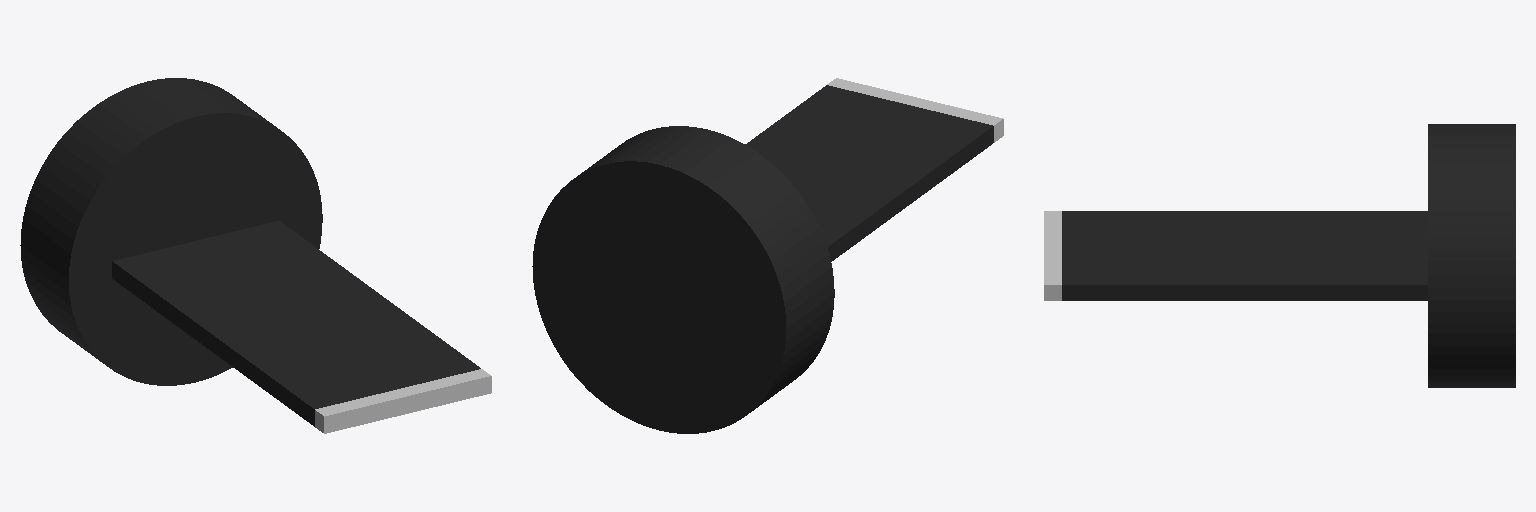
robot.urdf — ur5:
<?xml version="1.0" ?>
<!-- ============================================================================================= -->
<!-- |    This document was autogenerated by xacro from ur_description/urdf/ur5_robot.urdf.xacro | -->
<!-- |    EDITING THIS FILE BY HAND IS NOT RECOMMENDED                                           | -->
<!-- ============================================================================================= -->
<robot name="ur5" xmlns:xacro="http://ros.org/wiki/xacro">
  <material name="LightGrey">
    <color rgba="0.8 0.8 0.8 1.0"/>
  </material>

  <material name="DarkGrey">
    <color rgba="0.2 0.2 0.2 1.0"/>
  </material>

  <link name="base_link">
    <visual>
      <geometry>
        <mesh filename="visual/base.stl"/>
      </geometry>
      <material name="LightGrey"/>
    </visual>
    <!-- <collision>
      <geometry>
      	<mesh filename="collision/base.stl"/>
      </geometry>
    </collision> -->
    <inertial>
      <mass value="4.0"/>
      <origin rpy="0 0 0" xyz="0.0 0.0 0.0"/>
      <inertia ixx="0.00443333156" ixy="0.0" ixz="0.0" iyy="0.00443333156" iyz="0.0" izz="0.0072"/>
    </inertial>
  </link>
  <joint name="shoulder_pan_joint" type="revolute">
    <parent link="base_link"/>
    <child link="shoulder_link"/>
    <origin rpy="0.0 0.0 0.0" xyz="0.0 0.0 0.089159"/>
    <axis xyz="0 0 1"/>
    <limit effort="150.0" lower="-6.28318530718" upper="6.28318530718" velocity="3.15"/>
    <dynamics damping="0.0" friction="0.0"/>
  </joint>
  <link name="shoulder_link">
    <visual>
      <geometry>
        <mesh filename="visual/shoulder.stl"/>
      </geometry>
      <material name="DarkGrey"/>
    </visual>
    <!-- <collision>
      <geometry>
        <mesh filename="collision/shoulder.stl"/>
      </geometry>
    </collision> -->
    <inertial>
      <mass value="3.7"/>
      <origin rpy="0 0 0" xyz="0.0 0.0 0.0"/>
      <inertia ixx="0.010267495893" ixy="0.0" ixz="0.0" iyy="0.010267495893" iyz="0.0" izz="0.00666"/>
    </inertial>
  </link>
  <joint name="shoulder_lift_joint" type="revolute">
    <parent link="shoulder_link"/>
    <child link="upper_arm_link"/>
    <origin rpy="0.0 1.57079632679 0.0" xyz="0.0 0.13585 0.0"/>
    <axis xyz="0 1 0"/>
    <limit effort="150.0" lower="-6.28318530718" upper="6.28318530718" velocity="3.15"/>
    <dynamics damping="0.0" friction="0.0"/>
  </joint>
  <link name="upper_arm_link">
    <visual>
      <geometry>
        <mesh filename="visual/upperarm.stl"/>
      </geometry>
      <material name="LightGrey"/>
    </visual>
    <!-- <collision>
      <geometry>
        <mesh filename="collision/upperarm.stl"/>
      </geometry>
    </collision> -->
    <inertial>
      <mass value="8.393"/>
      <origin rpy="0 0 0" xyz="0.0 0.0 0.28"/>
      <inertia ixx="0.22689067591" ixy="0.0" ixz="0.0" iyy="0.22689067591" iyz="0.0" izz="0.0151074"/>
    </inertial>
  </link>
  <joint name="elbow_joint" type="revolute">
    <parent link="upper_arm_link"/>
    <child link="forearm_link"/>
    <origin rpy="0.0 0.0 0.0" xyz="0.0 -0.1197 0.425"/>
    <axis xyz="0 1 0"/>
    <limit effort="150.0" lower="-3.14159265359" upper="3.14159265359" velocity="3.15"/>
    <dynamics damping="0.0" friction="0.0"/>
  </joint>
  <link name="forearm_link">
    <visual>
      <geometry>
        <mesh filename="visual/forearm.stl"/>
      </geometry>
      <material name="DarkGrey"/>
    </visual>
    <!-- <collision>
      <geometry>
        <mesh filename="collision/forearm.stl"/>
      </geometry>
    </collision> -->
    <inertial>
      <mass value="2.275"/>
      <origin rpy="0 0 0" xyz="0.0 0.0 0.25"/>
      <inertia ixx="0.049443313556" ixy="0.0" ixz="0.0" iyy="0.049443313556" iyz="0.0" izz="0.004095"/>
    </inertial>
  </link>
  <joint name="wrist_1_joint" type="revolute">
    <parent link="forearm_link"/>
    <child link="wrist_1_link"/>
    <origin rpy="0.0 1.57079632679 0.0" xyz="0.0 0.0 0.39225"/>
    <axis xyz="0 1 0"/>
    <limit effort="28.0" lower="-6.28318530718" upper="6.28318530718" velocity="3.2"/>
    <dynamics damping="0.0" friction="0.0"/>
  </joint>
  <link name="wrist_1_link">
    <visual>
      <geometry>
        <mesh filename="visual/wrist1.stl"/>
      </geometry>
      <material name="LightGrey"/>
    </visual>
    <!-- <collision>
      <geometry>
        <mesh filename="collision/wrist1.stl"/>
      </geometry>
    </collision> -->
    <inertial>
      <mass value="1.219"/>
      <origin rpy="0 0 0" xyz="0.0 0.0 0.0"/>
      <inertia ixx="0.111172755531" ixy="0.0" ixz="0.0" iyy="0.111172755531" iyz="0.0" izz="0.21942"/>
    </inertial>
  </link>
  <joint name="wrist_2_joint" type="revolute">
    <parent link="wrist_1_link"/>
    <child link="wrist_2_link"/>
    <origin rpy="0.0 0.0 0.0" xyz="0.0 0.093 0.0"/>
    <axis xyz="0 0 1"/>
    <limit effort="28.0" lower="-6.28318530718" upper="6.28318530718" velocity="3.2"/>
    <dynamics damping="0.0" friction="0.0"/>
  </joint>
  <link name="wrist_2_link">
    <visual>
      <geometry>
        <mesh filename="visual/wrist2.stl"/>
      </geometry>
      <material name="DarkGrey"/>
    </visual>
    <!-- <collision>
      <geometry>
        <mesh filename="collision/wrist2.stl"/>
      </geometry>
    </collision> -->
    <inertial>
      <mass value="1.219"/>
      <origin rpy="0 0 0" xyz="0.0 0.0 0.0"/>
      <inertia ixx="0.111172755531" ixy="0.0" ixz="0.0" iyy="0.111172755531" iyz="0.0" izz="0.21942"/>
    </inertial>
  </link>
  <joint name="wrist_3_joint" type="revolute">
    <parent link="wrist_2_link"/>
    <child link="wrist_3_link"/>
    <origin rpy="0.0 0.0 0.0" xyz="0.0 0.0 0.09465"/>
    <axis xyz="0 1 0"/>
    <limit effort="28.0" lower="-6.28318530718" upper="6.28318530718" velocity="3.2"/>
    <dynamics damping="0.0" friction="0.0"/>
  </joint>
  <link name="wrist_3_link">
    <visual>
      <geometry>
        <mesh filename="visual/wrist3.stl"/>
      </geometry>
      <material name="LightGrey"/>
    </visual>
    <collision>
      <geometry>
        <mesh filename="collision/wrist3.stl"/>
      </geometry>
    </collision>
    <inertial>
      <mass value="0.1879"/>
      <origin rpy="0 0 0" xyz="0.0 0.0 0.0"/>
      <inertia ixx="0.0171364731454" ixy="0.0" ixz="0.0" iyy="0.0171364731454" iyz="0.0" izz="0.033822"/>
    </inertial>
  </link>
  <joint name="ee_fixed_joint" type="fixed">
    <parent link="wrist_3_link"/>
    <child link="ee_link"/>
    <origin rpy="-1.5707963267948966 0.0 0.0" xyz="0.0 0.0823 0.0"/>
  </joint>
  <link name="ee_link">
    <!-- <collision>
      <geometry>
        <box size="0.01 0.01 0.01"/>
      </geometry>
      <origin rpy="0 0 0" xyz="-0.01 0 0"/>
    </collision> -->
    <inertial>
      <mass value="0.0"/>
      <origin rpy="0 0 0" xyz="0.0 0.0 0.0"/>
      <inertia ixx="0.0" ixy="0.0" ixz="0.0" iyy="0.0" iyz="0.0" izz="0.0"/>
    </inertial>
  </link>
  <!-- nothing to do here at the moment -->
  <!-- ROS base_link to UR 'Base' Coordinates transform -->
  <link name="base">
    <inertial>
      <mass value="0.0"/>
      <origin rpy="0 0 0" xyz="0.0 0.0 0.0"/>
      <inertia ixx="0.0" ixy="0.0" ixz="0.0" iyy="0.0" iyz="0.0" izz="0.0"/>
    </inertial>
  </link>
  <joint name="base_link-base_fixed_joint" type="fixed">
    <!-- NOTE: this rotation is only needed as long as base_link itself is
                 not corrected wrt the real robot (ie: rotated over 180
                 degrees)
      -->
    <origin rpy="0 0 -3.14159265359" xyz="0 0 0"/>
    <parent link="base_link"/>
    <child link="base"/>
  </joint>
  <!-- Frame coincident with all-zeros TCP on UR controller -->
  <link name="tool0">
    <inertial>
      <mass value="0.0"/>
      <origin rpy="0 0 0" xyz="0.0 0.0 0.0"/>
      <inertia ixx="0.0" ixy="0.0" ixz="0.0" iyy="0.0" iyz="0.0" izz="0.0"/>
    </inertial>
  </link>
  <joint name="wrist_3_link-tool0_fixed_joint" type="fixed">
    <origin rpy="-1.57079632679 0 0" xyz="0 0.0823 0"/>
    <parent link="wrist_3_link"/>
    <child link="tool0"/>
  </joint>

  <link name="suctionBaseLink">
    <contact>
      <lateral_friction value="1.0"/>
      <rolling_friction value="0.0001"/>
      <inertia_scaling value="3.0"/>
    </contact>
    <inertial>
      <origin rpy="0 0 0" xyz="0 0 0"/>
       <mass value=".1"/>
       <inertia ixx="1" ixy="0" ixz="0" iyy="1" iyz="0" izz="1"/>
    </inertial>
    <visual>
      <origin rpy="0 0 0" xyz="0 0 0"/>
      <geometry>
        <mesh filename="suction/base.obj" scale="0.001 0.001 0.001"/>
      </geometry>
      <material name="DarkGrey"/>
    </visual>
    <visual>
      <origin rpy="0 0 0" xyz="0 0 0.075"/>
      <geometry>
        <box size="0.05 0.005 0.11"/>
      </geometry>
      <material name="DarkGrey"/>
    </visual>
    <collision>
      <origin rpy="0 0 0" xyz="0 0 0.075"/>
      <geometry>
        <box size="0.05 0.005 0.11"/>
      </geometry>
    </collision>
  </link>
  <joint name="tool0_fixed_joint-suctionBaseLink" type="fixed">
    <origin rpy="0 0 0" xyz="0 0 0"/>
    <parent link="tool0"/>
    <child link="suctionBaseLink"/>
  </joint>

  <link name="suctionMidLink">
    <contact>
      <lateral_friction value="1.0"/>
      <rolling_friction value="0.0001"/>
      <inertia_scaling value="3.0"/>
    </contact>
    <inertial>
      <origin rpy="0 0 0" xyz="0 0 0"/>
       <mass value=".1"/>
       <inertia ixx="1" ixy="0" ixz="0" iyy="1" iyz="0" izz="1"/>
    </inertial>
    <!-- <visual>
      <origin rpy="0 0 0" xyz="0 0 0"/>
      <geometry>
        <mesh filename="suction/mid.obj" scale="0.001 0.001 0.001"/>
      </geometry>
      <material name="DarkGrey"/>
    </visual> -->
    <visual>
      <origin rpy="0 0 0" xyz="0 0 0.1075"/>
      <geometry>
        <box size="0.05 0.005 0.005"/>
      </geometry>
      <material name="LightGrey"/>
    </visual>
    <collision>
      <origin rpy="0 0 0" xyz="0 0 0.1075"/>
      <geometry>
        <box size="0.05 0.005 0.005"/>
      </geometry>
    </collision>
    <!-- <visual>
      <origin rpy="0 0 0" xyz="0 0 0.065"/>
      <geometry>
        <box size="0.05 0.01 0.1"/>
      </geometry>
      <material name="LightGrey"/>
    </visual> -->
  </link>
  <joint name="suctionBaseLink-suctionMidLink" type="fixed">
    <origin rpy="0 0 0" xyz="0 0 0.025"/>
    <parent link="suctionBaseLink"/>
    <child link="suctionMidLink"/>
  </joint>


  <link name="tool_tip">
    <inertial>
      <mass value="0.0"/>
      <origin rpy="-3.14159265359 0 -1.57079632679" xyz="0.0 0.0 0.0"/>
      <inertia ixx="0.0" ixy="0.0" ixz="0.0" iyy="0.0" iyz="0.0" izz="0.0"/>
    </inertial>
    <!-- <visual>
      <geometry>
        <box size="0.01 0.01 0.01"/>
      </geometry>
      <origin rpy="0 0 0" xyz="0 0 0"/>
    </visual> -->
  </link>
  <joint name="suctionMidLink-tool_tip" type="fixed">
    <origin rpy="0 0 0" xyz="0 0 0.11"/>
    <parent link="suctionMidLink"/>
    <child link="tool_tip"/>
  </joint>













  <link name="world"/>
  <joint name="world_joint" type="fixed">
    <parent link="world"/>
    <child link="rotated_base_link"/>
    <origin rpy="0.0 0.0 0.0" xyz="0.0 0.0 0.0"/>
  </joint>

  <link name="rotated_base_link">
    <inertial>
      <mass value="0.0"/>
      <origin rpy="0 0 0" xyz="0.0 0.0 0.0"/>
      <inertia ixx="0.0" ixy="0.0" ixz="0.0" iyy="0.0" iyz="0.0" izz="0.0"/>
    </inertial>
  </link>>

  <joint name="rotated_base-base_fixed_joint" type="fixed">
    <origin xyz="0.0 0.0 0.0" rpy="0.0 0.0 3.141592653589793"/>
    <parent link="rotated_base_link"/>
    <child link="base_link"/>
  </joint>
</robot>

--- What the picture shows (computed from the rendered views, not written in the file) ---
The picture shows the robot from 3 angles, left to right: view 1: azimuth 30°, elevation 25°; view 2: azimuth 150°, elevation 25°; view 3: azimuth 270°, elevation 25°; orthographic projection.
Robot: ur5 — 15 links, 14 joints (6 revolute, 8 fixed); root link world; default pose: every joint at zero.
Visible links, largest first — view 1: suctionBaseLink, suctionMidLink; view 2: suctionBaseLink, suctionMidLink; view 3: suctionBaseLink, suctionMidLink.
Boxes of the visible links, x1,y1,x2,y2 form: suctionBaseLink: (20,78,480,426); suctionMidLink: (315,369,491,433); suctionBaseLink: (532,85,993,433); suctionMidLink: (827,78,1003,142); suctionBaseLink: (1062,124,1515,387); suctionMidLink: (1044,211,1061,300).
Size in the robot's own frame: 0.076 by 0.135 by 0.076 metres.
1 mesh visuals loaded from 8 distinct referenced files (1 OBJ); not drawn: 7 (reference not matched to a file when rendering).